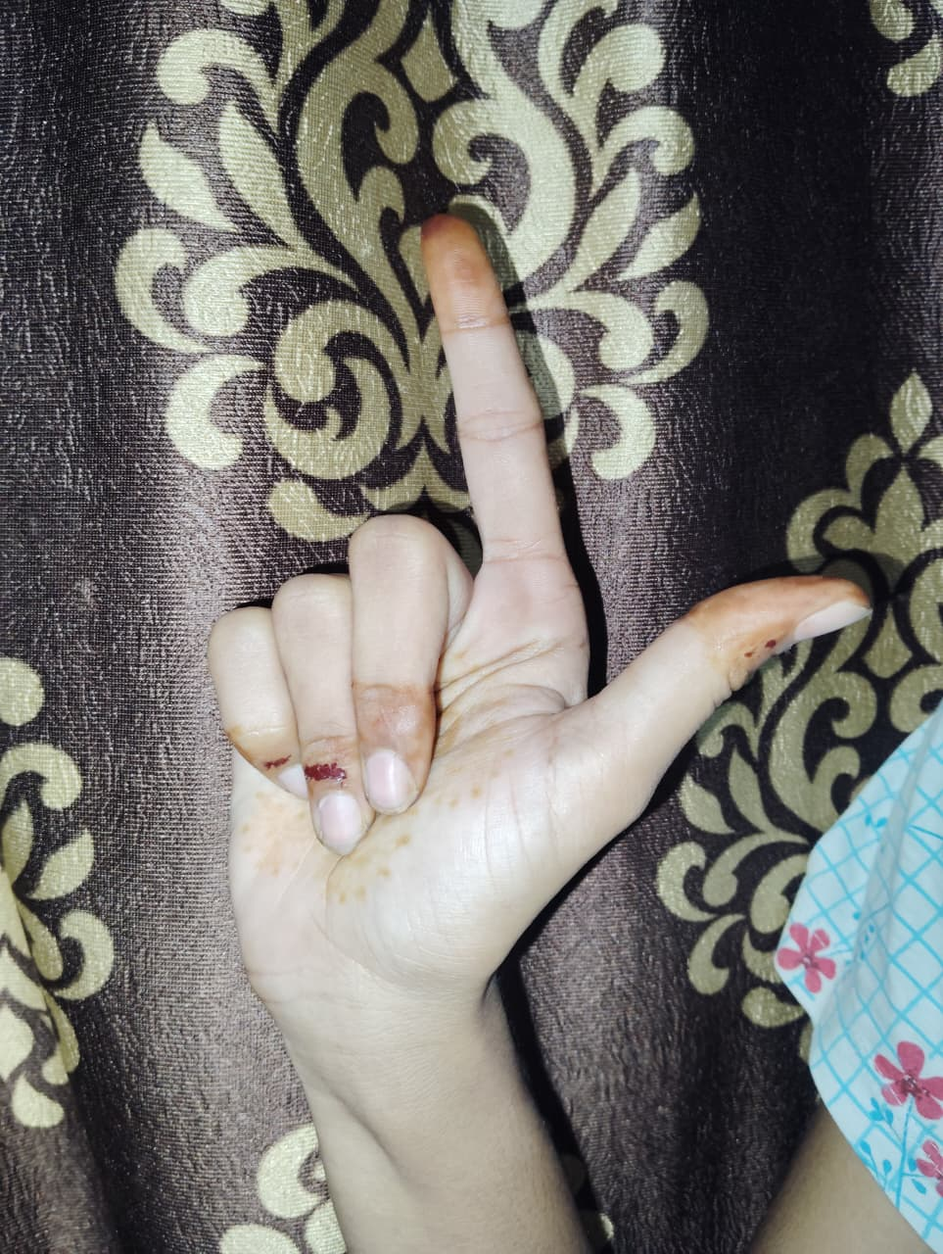L: (212, 216, 872, 1013)
